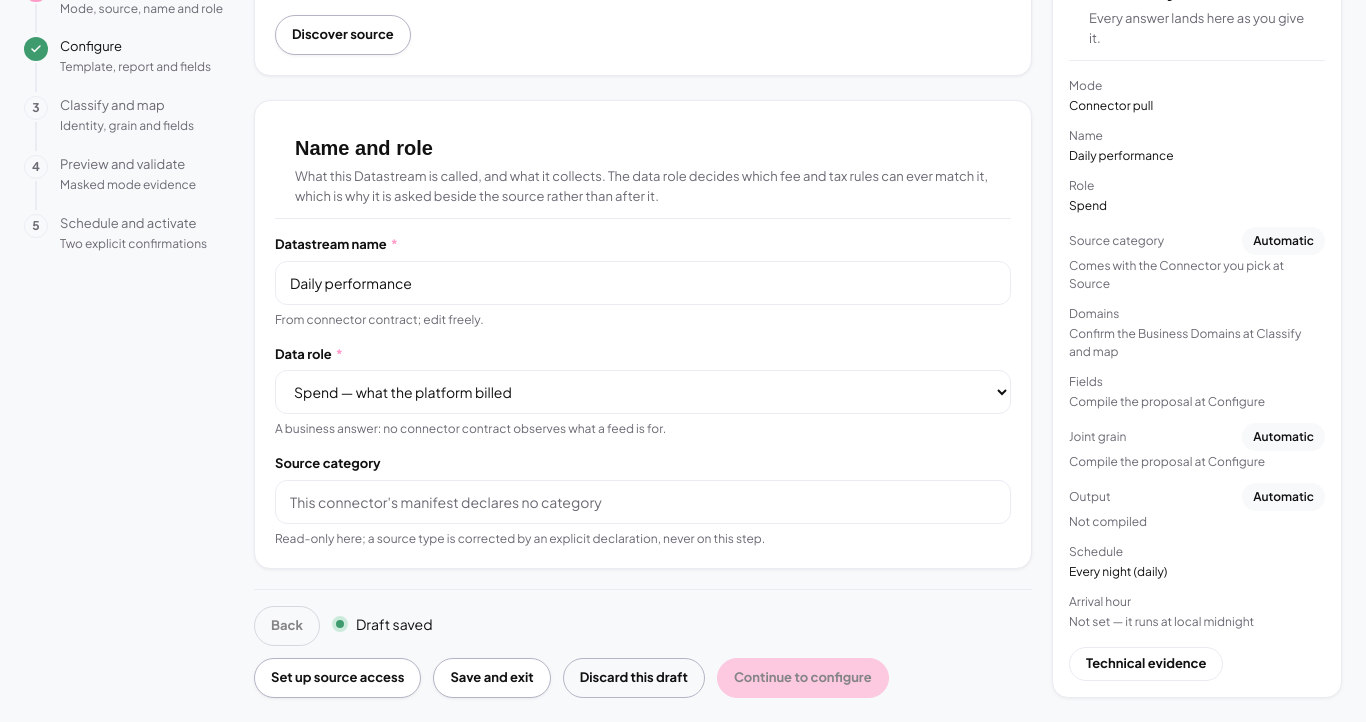
Test: names what the person loses, and never the state the database writes
(page scrolled)
What coordinates should you click on to do the following:
click the button "Discard this draft"
I would click on:
 (634, 678)
Its box is left=563, top=658, right=705, bottom=698.
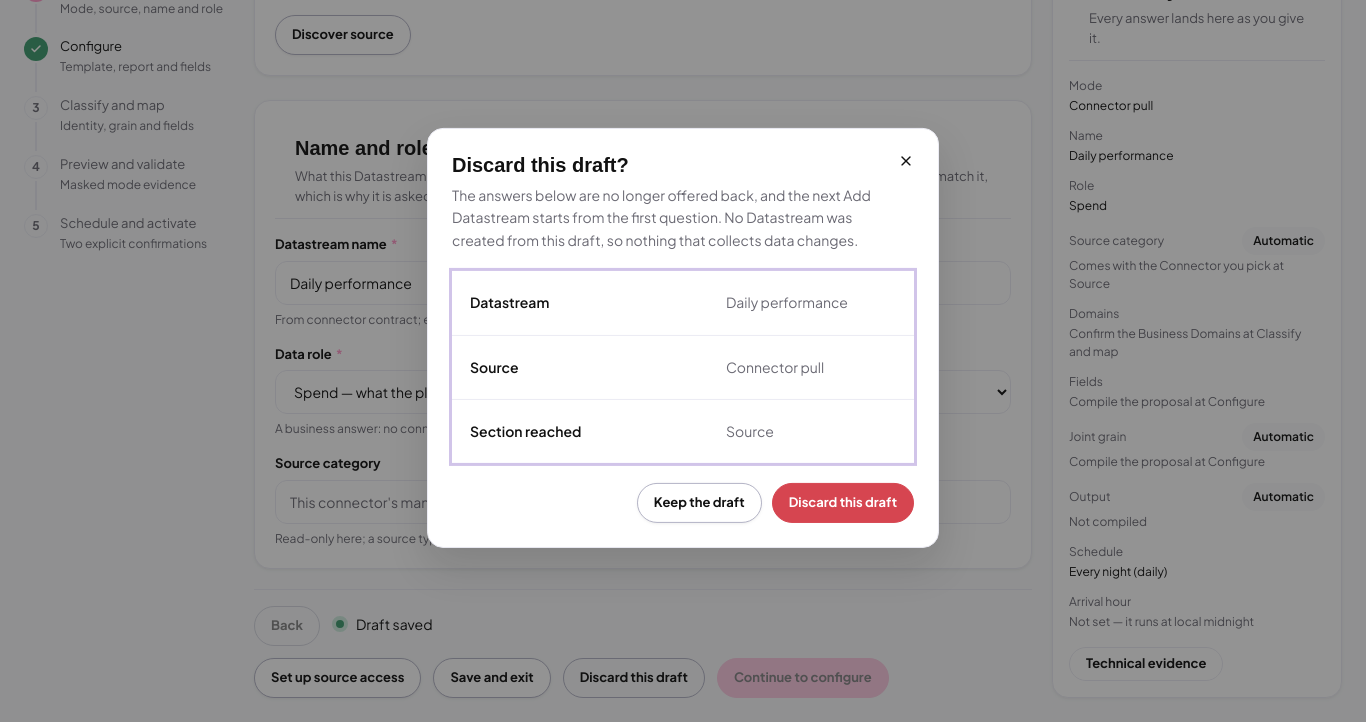
Expected: the dialog with test id "datastream-setup-discard" shows "Daily performance", left=726, top=293, right=848, bottom=311
Expected: the dialog with test id "datastream-setup-discard" shows "Connector pull", left=726, top=358, right=824, bottom=376
Expected: the dialog with test id "datastream-setup-discard" shows "Source", left=470, top=358, right=518, bottom=376
